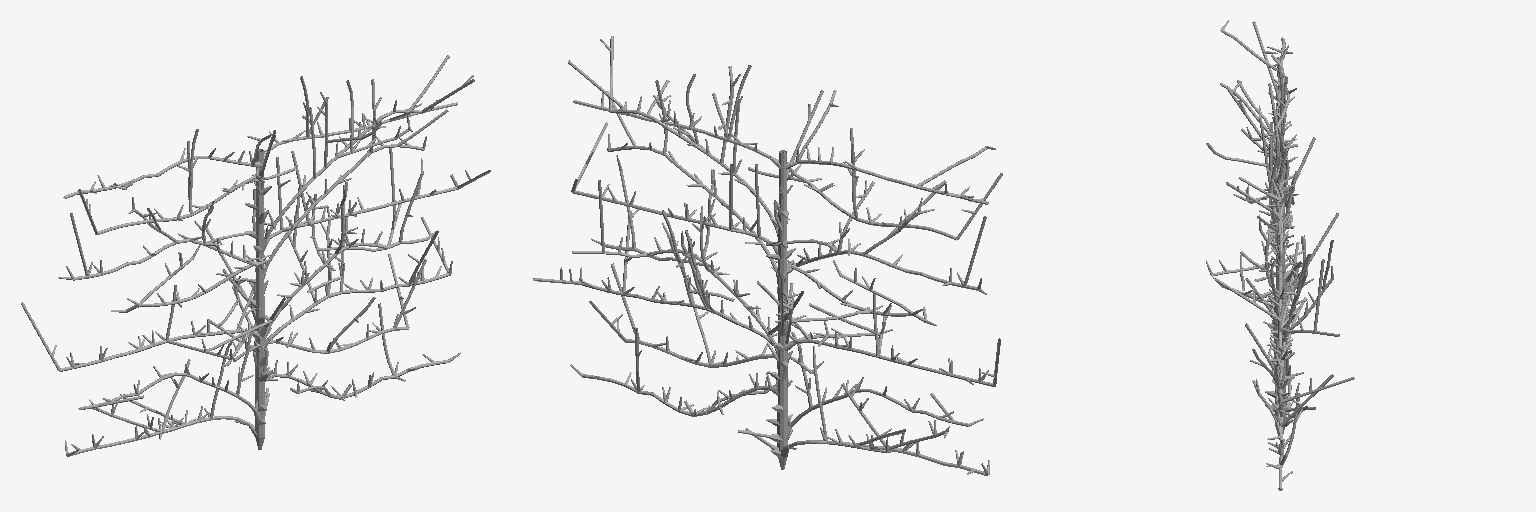
URDF robot description (ur5e):
<robot name="ur5e" xmlns:xacro="http://ros.org/wiki/xacro">
    <link name="tree">
        <visual>
        <geometry>
            <mesh filename="./ur_e_description/meshes/trees/tree_24.obj" scale="1 1 1"/>
        </geometry>
        <material name="LightGrey">
            <color rgba="0.7 0.7 0.7 1.0"/>
        </material>
        </visual>
        <collision concave = "true">
        <geometry>
            <mesh filename="./ur_e_description/meshes/trees/tree_24.obj" scale="1 1 1"/>
        </geometry>
        </collision>
        <inertial>
        <mass value="4.0"/>
        <origin rpy="0 0 0" xyz="0.0 0.0 0.0"/>
        <inertia ixx="0.00443333156" ixy="0.0" ixz="0.0" iyy="0.00443333156" iyz="0.0" izz="0.0072"/>
        </inertial>
    </link>
        <link name="world"/>
    <joint name="tree_joint" type="fixed">
        <parent link="world"/>
        <child link="tree"/>
        <origin rpy="0.0 0.0 0.0" xyz="0.0 0.0 0.0"/>
    </joint>
    </robot>

--- Render facts (derived) ---
3 views of the same robot in one strip: view 1: azimuth 30°, elevation 25°; view 2: azimuth 150°, elevation 25°; view 3: azimuth 270°, elevation 25° (orthographic).
Model ur5e with 2 links and 1 joints (1 fixed), rooted at world, posed every joint at zero.
Links seen in each view (by area): view 1: tree; view 2: tree; view 3: tree.
Link boxes in pixels (x1,y1,x2,y2): tree: (21,55,490,456); tree: (533,36,1002,475); tree: (1206,20,1354,490).
Size in the robot's own frame: 31.11 by 9.35 by 25.83 metres.
Meshes: 1 distinct files referenced, 1 mesh visuals loaded (1 OBJ).